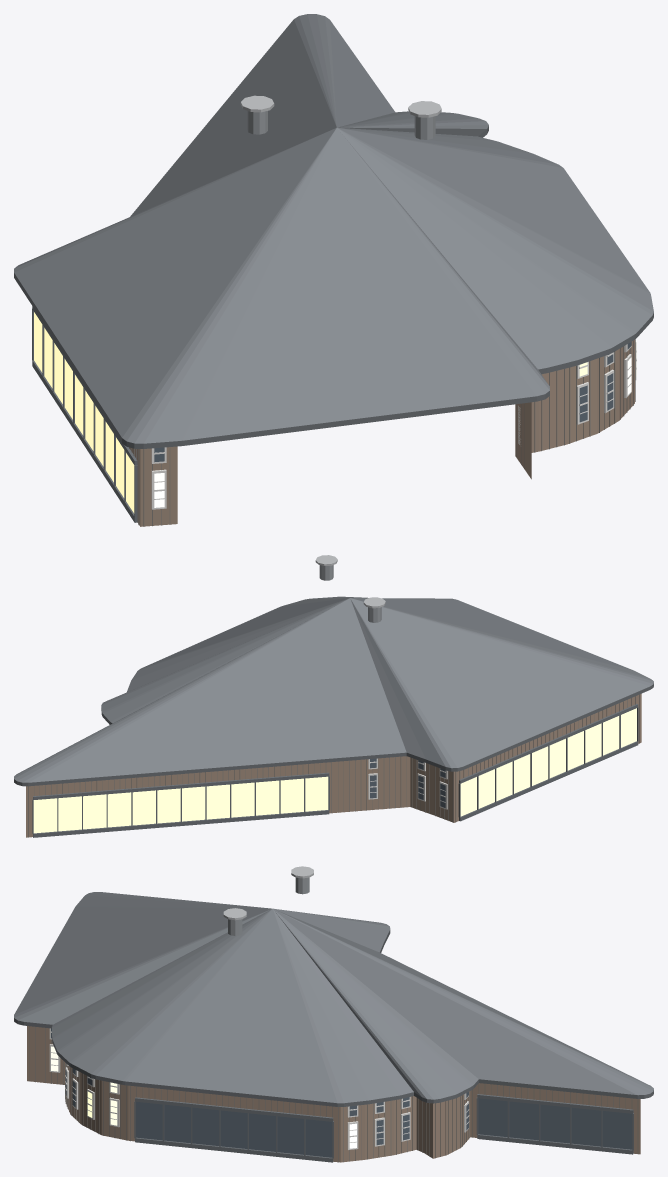
3 views of the same model, one above another, from view 1: azimuth 30°, elevation 25°; view 2: azimuth 150°, elevation 25°; view 3: azimuth 270°, elevation 25° (orthographic). The views are drawn at different scales.
Parts seen in each view (by area): view 1: slate, timber_weathered, windows, band_dark, slate_dk, pend_in, frame, lead, dress_dark; view 2: slate, windows, timber_weathered, slate_dk, band_dark, pend_in, frame, lead, dress_dark; view 3: slate, timber_weathered, windows, slate_dk, pend_in, band_dark, frame, dress_dark, lead.
Boxes of the visible parts, x1,y1,x2,y2 form: slate: (14,14,653,443); timber_weathered: (129,340,634,526); windows: (34,312,636,513); band_dark: (14,126,653,448); slate_dk: (32,306,137,522); pend_in: (129,339,635,526); frame: (151,340,636,509); lead: (247,110,435,139); dress_dark: (240,95,441,117); slate: (14,596,653,782); windows: (33,708,636,833); timber_weathered: (26,693,641,837); slate_dk: (32,704,638,837); band_dark: (14,683,653,786); pend_in: (28,694,639,837); frame: (368,758,447,809); lead: (319,565,381,622); dress_dark: (315,555,385,608); slate: (14,892,653,1103); timber_weathered: (27,1026,640,1162); windows: (51,1028,632,1157); slate_dk: (134,1094,633,1162); pend_in: (29,1026,638,1162); band_dark: (14,930,653,1106); frame: (49,1028,469,1149); dress_dark: (223,866,313,920); lead: (228,877,309,935).
Size of the model in its own units: 33.37 by 13.38 by 42.72.
